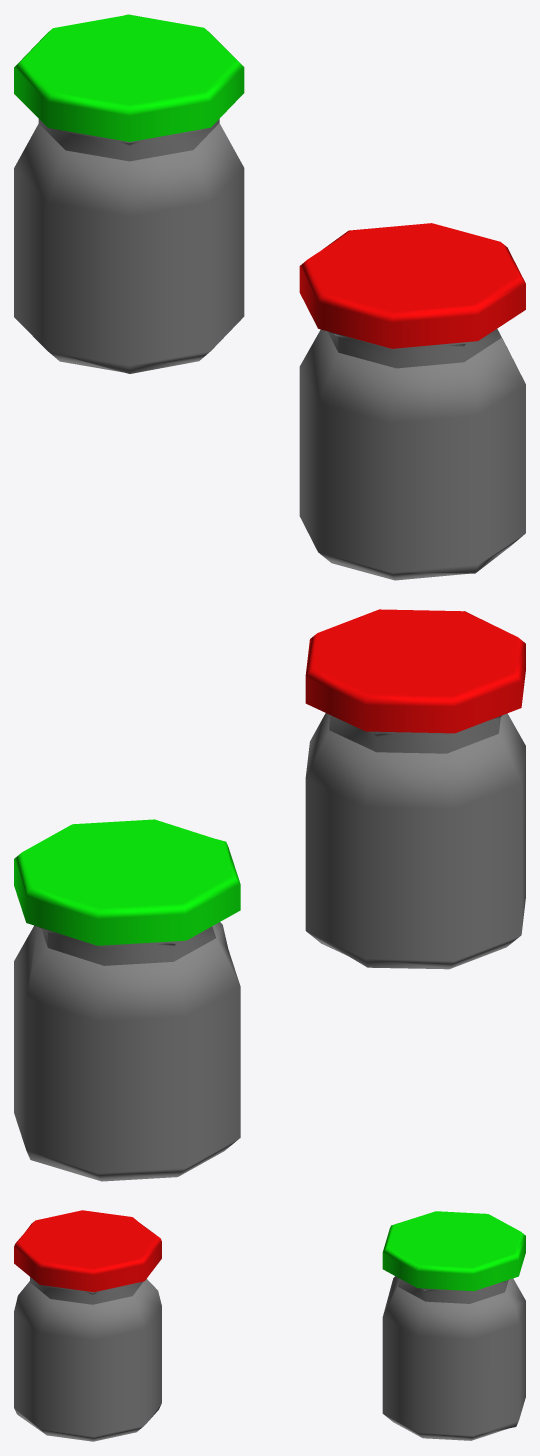
The model's file is Jars.fbx.
3 views of the same model, one above another, from view 1: azimuth 30°, elevation 25°; view 2: azimuth 150°, elevation 25°; view 3: azimuth 270°, elevation 25° (orthographic). The views are drawn at different scales.
Visible parts, largest first — view 1: Jars; view 2: Jars; view 3: Jars.
Boxes of the visible parts, <box> form: Jars: <box>14,14,525,580</box>; Jars: <box>14,609,525,1181</box>; Jars: <box>14,1210,525,1441</box>.
Size of the model in its own units: 0.0558 by 0.1929 by 0.073.
